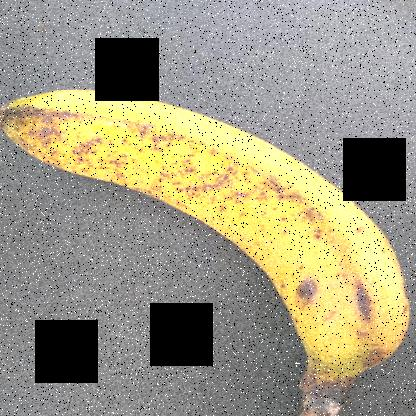ripe: (2, 81, 415, 381)
